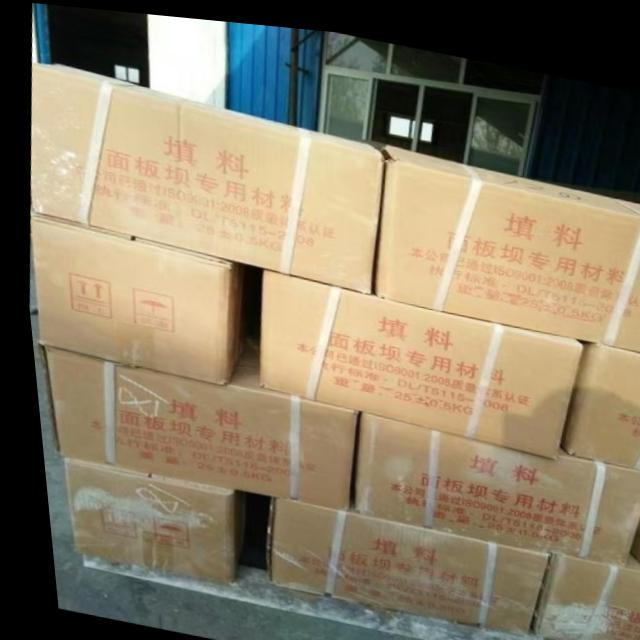box: (26, 62, 382, 288), (250, 264, 574, 448), (368, 135, 640, 341), (28, 334, 349, 507), (343, 405, 640, 550), (259, 491, 534, 628), (24, 211, 241, 382), (52, 457, 229, 581), (520, 540, 640, 640), (553, 329, 640, 458), (624, 485, 640, 560)
